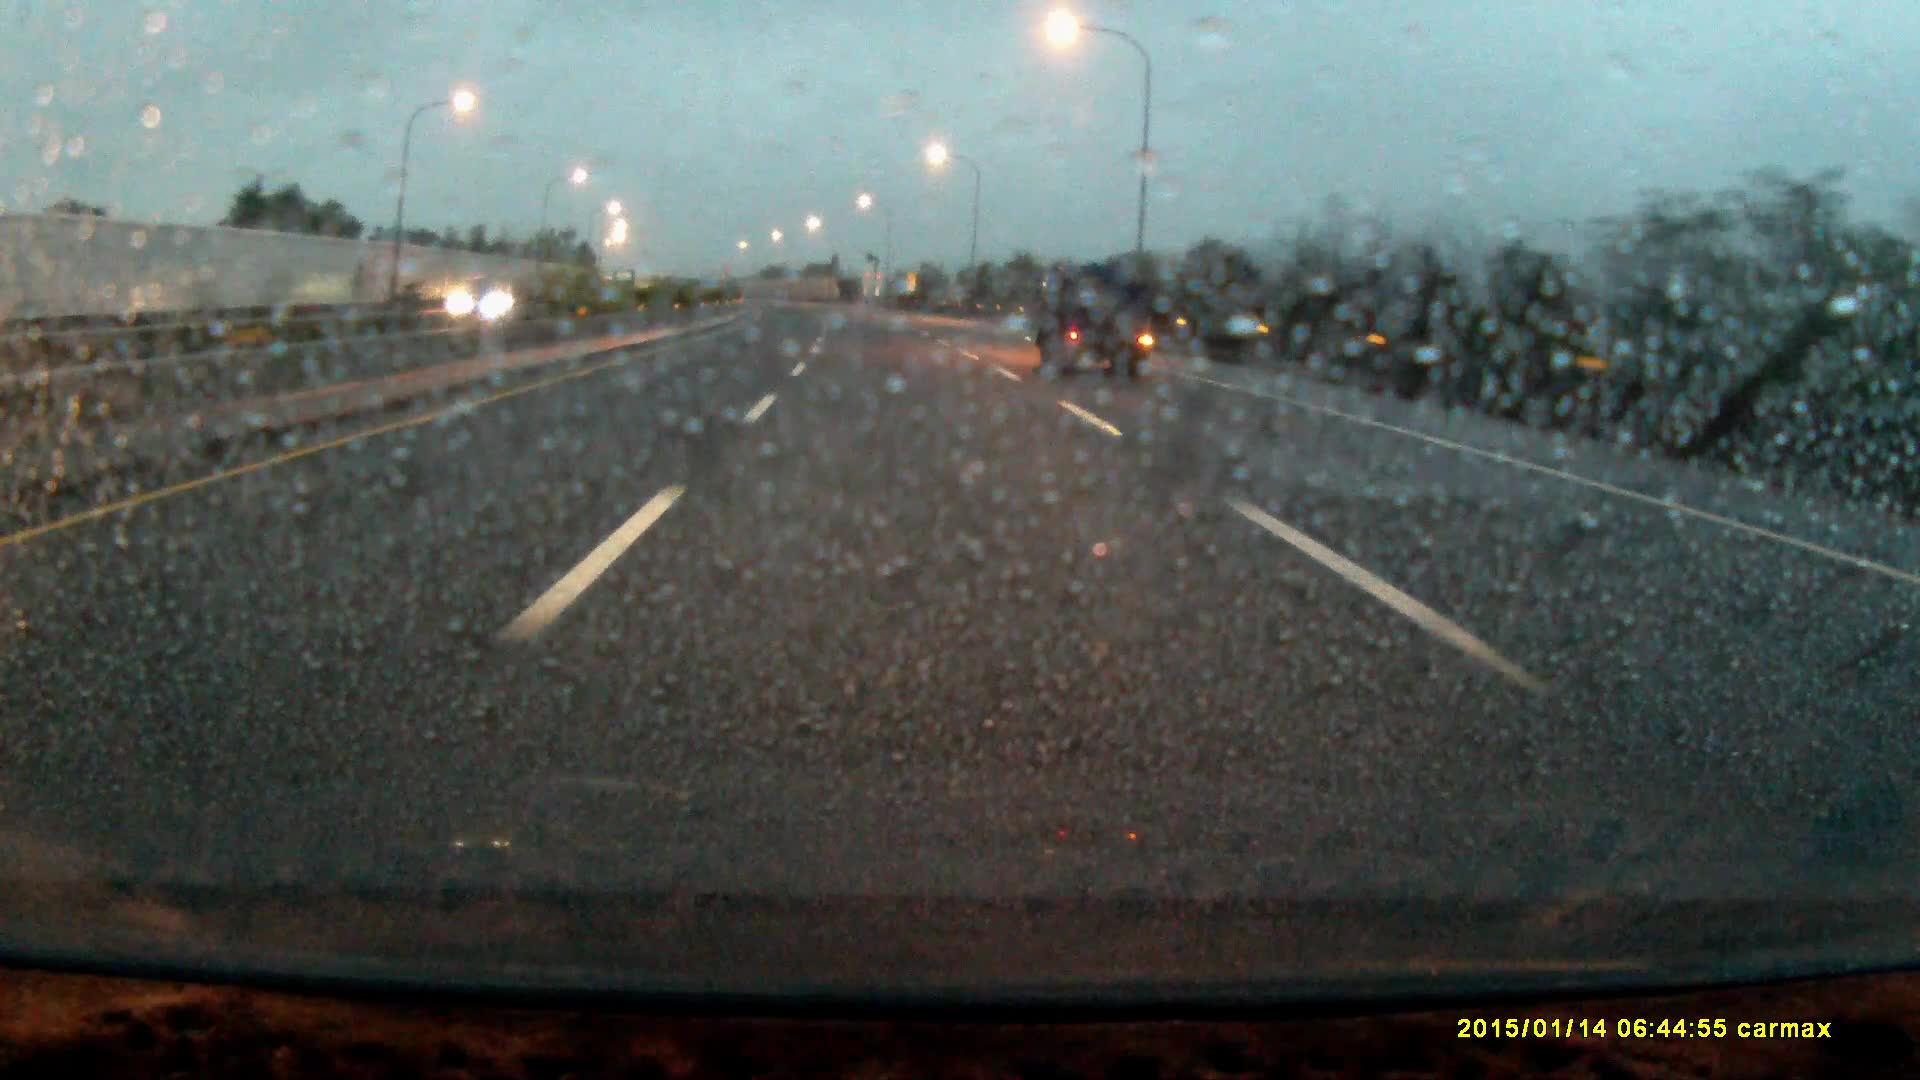vehicle: (1040, 270, 1151, 378), (443, 278, 524, 324)
